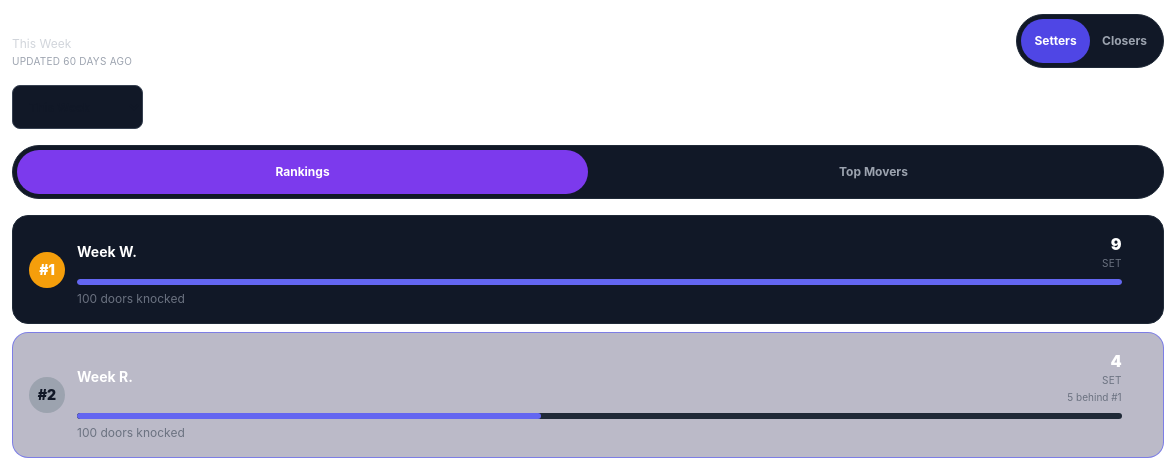
Scenario: Sisu leaderboard date filter › surfaces a failed filtered load instead of showing stale rankings
Select "This Year" in the dropdown named "Leaderboard time period" at [78, 107], box [12,85,143,129]
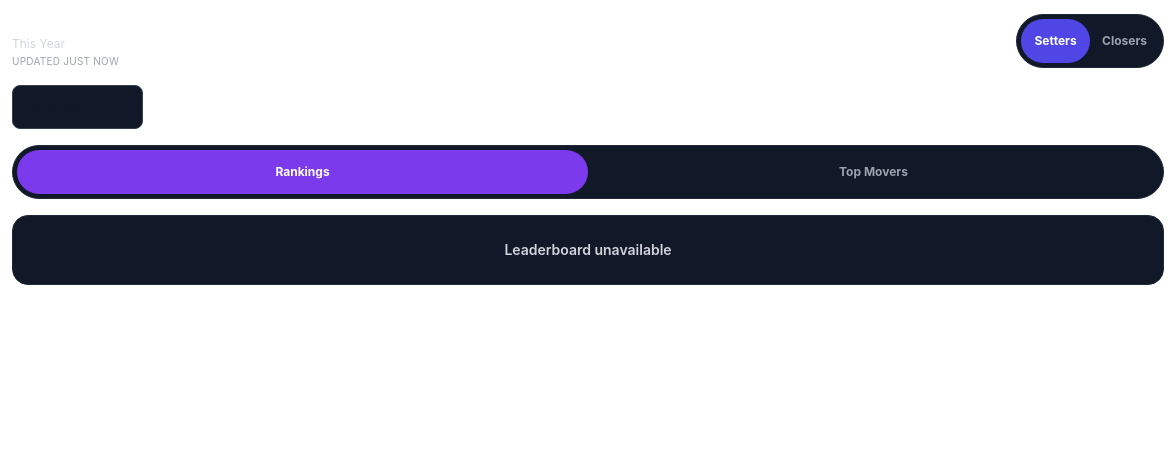
Result: the text "Leaderboard unavailable" is shown at [12,215,1164,285]
